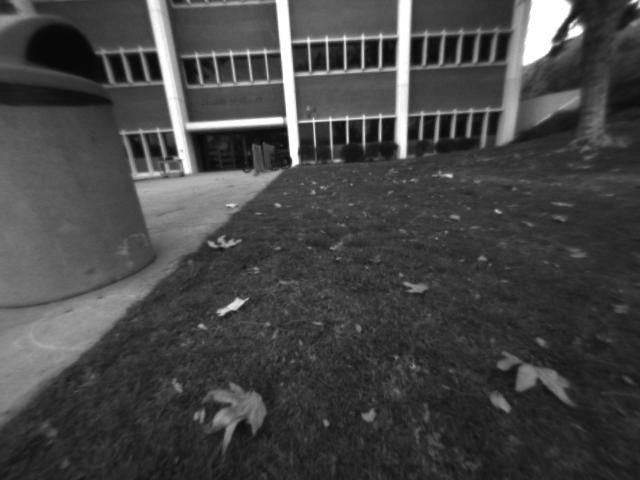trashcan: (1, 6, 178, 321)
